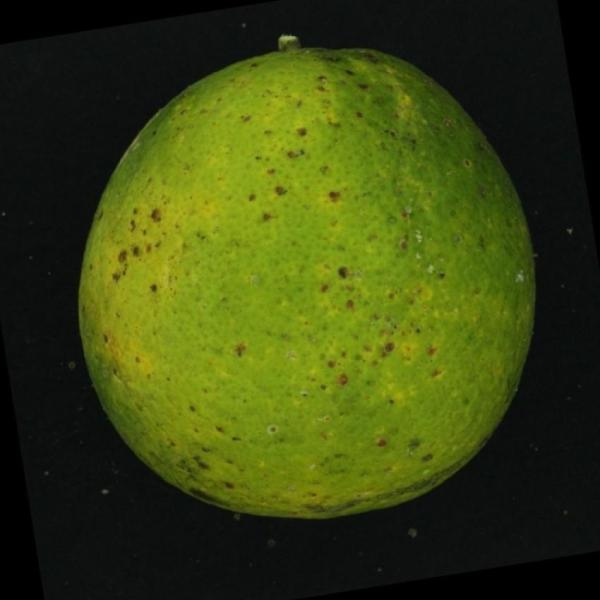Greening: (56, 24, 555, 527)
